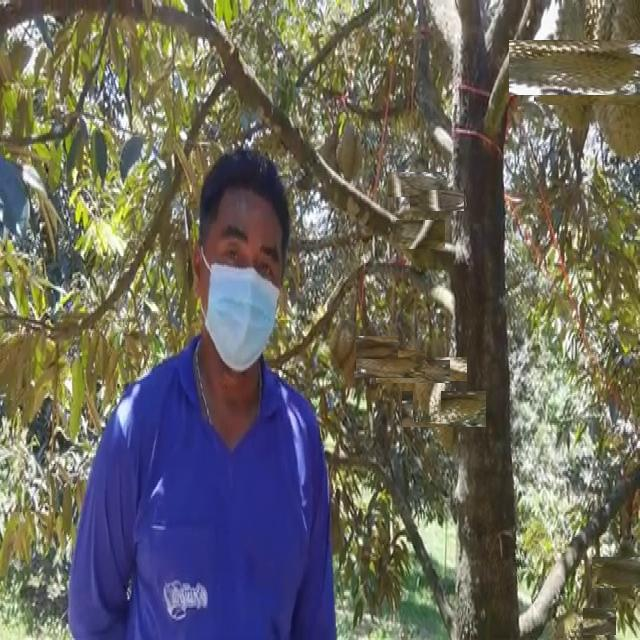durian: (528, 20, 623, 115), (563, 28, 640, 133), (414, 379, 474, 440), (365, 340, 415, 390), (389, 347, 437, 396), (410, 346, 456, 393), (413, 350, 441, 422), (334, 110, 361, 182), (601, 548, 640, 595), (396, 163, 438, 206), (401, 215, 440, 255), (352, 328, 391, 367), (418, 181, 456, 219), (331, 317, 356, 370), (584, 606, 614, 637)
